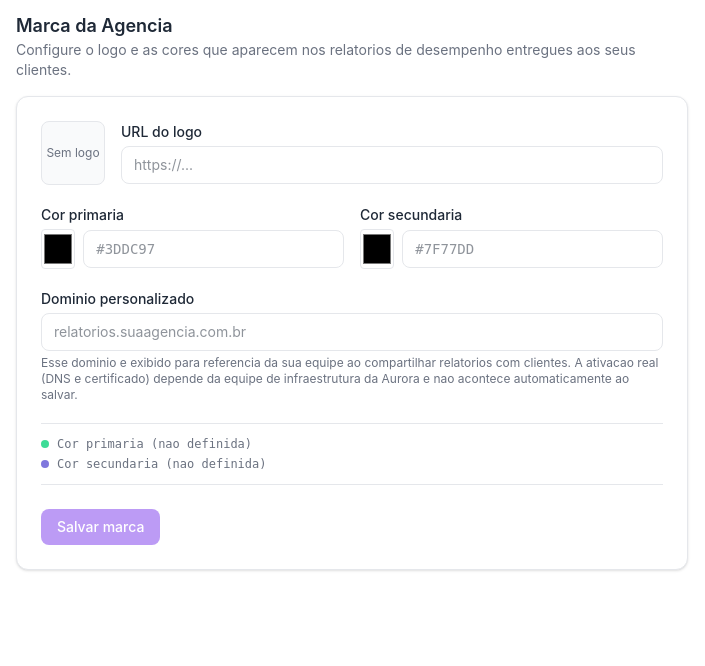
Test: AgencyBrandingPage - ADR-0048 (US-43 branding configuration) › shows an explicit error message when saving fails
Type "https://cdn.example.com/logo.png" into the field labelled "URL do logo" at (392, 165), box [121,146,663,184]
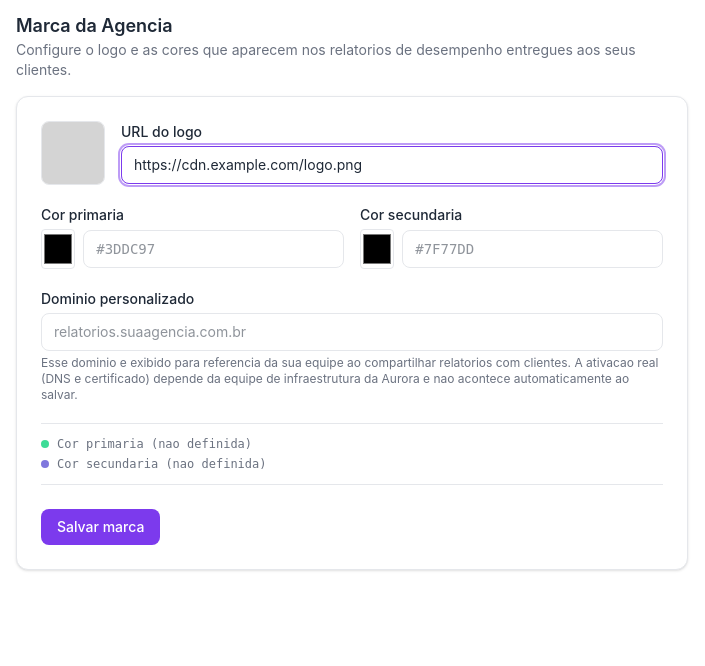
Click the button "Salvar marca" at (101, 527), box [41,509,160,545]
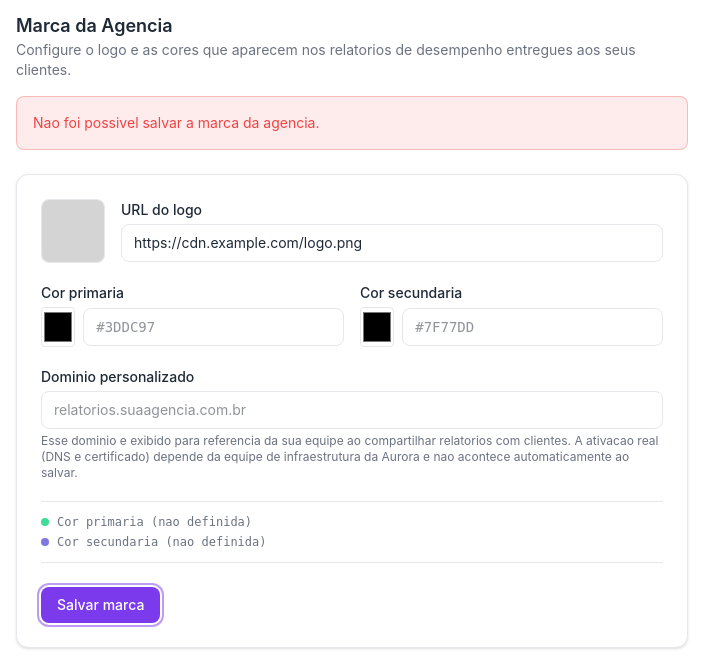
Check: the text "Nao foi possivel salvar a marca da agencia." is shown, box [16,96,688,150]
